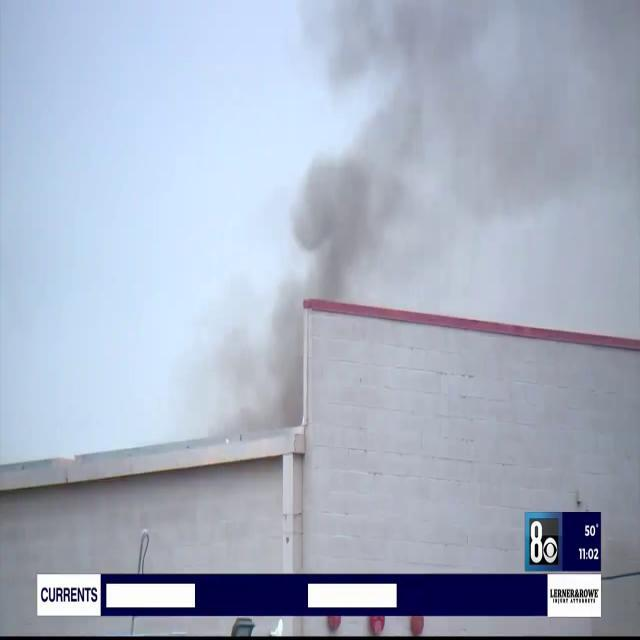Smoke: (246, 1, 638, 297)
